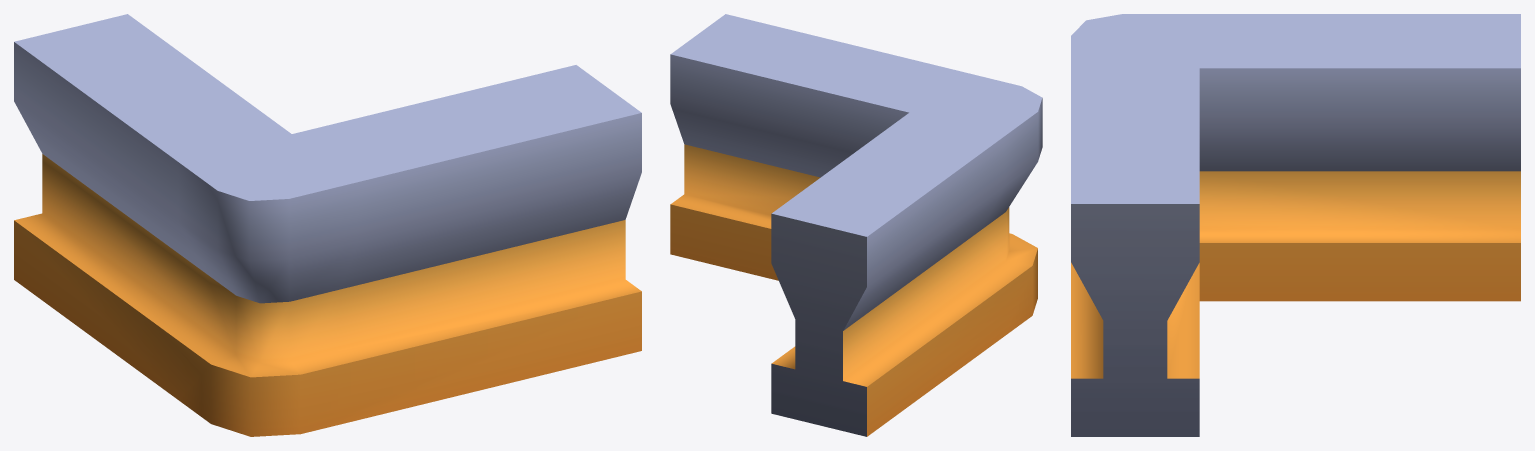
Rendered from kenney-space-station-balcony-rail-corner.glb.
3 views of the same model, side by side, from view 1: azimuth 30°, elevation 25°; view 2: azimuth 150°, elevation 25°; view 3: azimuth 270°, elevation 25° (orthographic). The views are drawn at different scales.
Visible parts, largest first — view 1: balcony-rail-corner; view 2: balcony-rail-corner; view 3: balcony-rail-corner.
Boxes of the visible parts, x1,y1,x2,y2 form: balcony-rail-corner: [14, 14, 641, 436]; balcony-rail-corner: [670, 14, 1042, 436]; balcony-rail-corner: [1071, 14, 1520, 436].
Bounding box in the file's own units: 0.7 × 0.4 × 0.7.
1 material, 1 textured.
